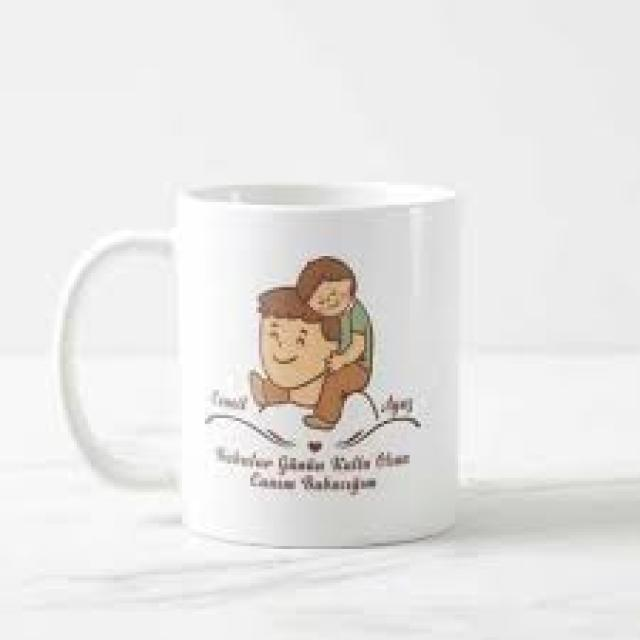taza: (52, 182, 460, 540)
